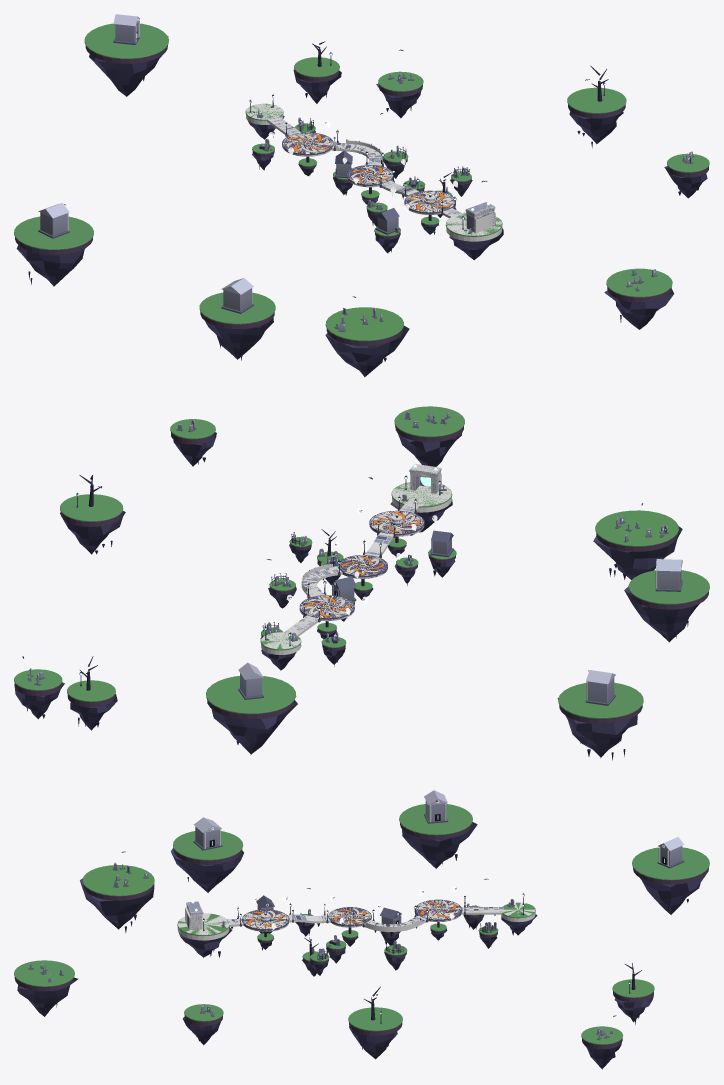
The picture shows the model from 3 angles, top to bottom: view 1: azimuth 30°, elevation 25°; view 2: azimuth 150°, elevation 25°; view 3: azimuth 270°, elevation 25°; orthographic projection. The views are drawn at different scales.
Visible parts, largest first — view 1: V_moss, V_rock, V_dirt, V_stone, C_0, V_stone_dark, V_stone_light, V_iron; view 2: V_moss, V_rock, V_dirt, V_stone, C_0, V_stone_dark, V_stone_light, V_iron, C_1; view 3: V_moss, V_rock, V_dirt, V_stone, C_0, V_stone_dark, V_stone_light, V_iron.
Part boxes in pixels (x1,y1,x2,y2): V_moss: (14, 23, 709, 341); V_rock: (16, 36, 707, 377); V_dirt: (15, 45, 708, 345); V_stone: (40, 23, 692, 330); C_0: (246, 103, 502, 241); V_stone_dark: (38, 37, 693, 331); V_stone_light: (38, 14, 495, 294); V_iron: (249, 52, 605, 229); V_moss: (14, 406, 709, 718); V_rock: (14, 425, 699, 758); V_dirt: (14, 426, 708, 723); V_stone: (29, 411, 681, 703); C_0: (261, 482, 451, 654); V_stone_dark: (27, 416, 682, 705); V_stone_light: (238, 468, 682, 684); V_iron: (76, 475, 441, 686); C_1: (410, 464, 441, 493); V_moss: (14, 804, 709, 1044); V_rock: (17, 822, 705, 1068); V_dirt: (14, 823, 708, 1049); V_stone: (29, 801, 682, 1038); C_0: (177, 902, 535, 940); V_stone_dark: (28, 813, 684, 1039); V_stone_light: (186, 790, 684, 914); V_iron: (203, 893, 630, 1023).
Size of the model in its own units: 141 by 31.56 by 161.
